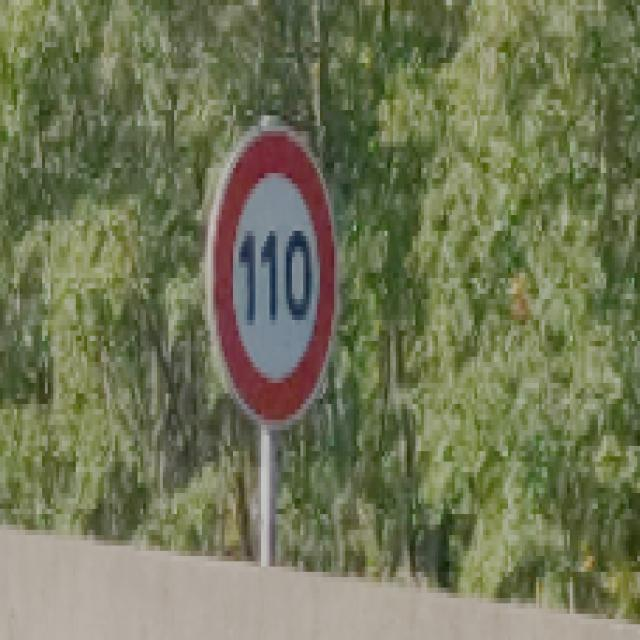speed_110: (206, 119, 340, 438)
